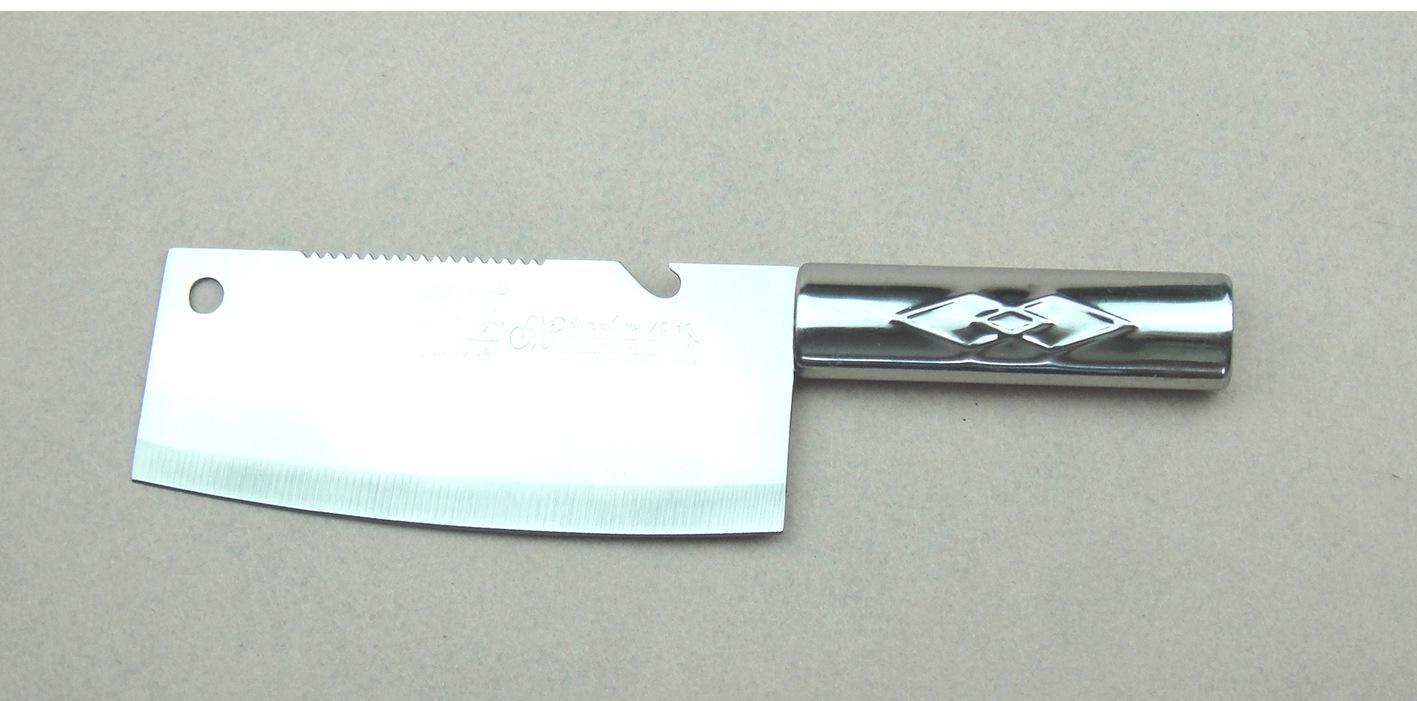knief: (93, 196, 1339, 568)
